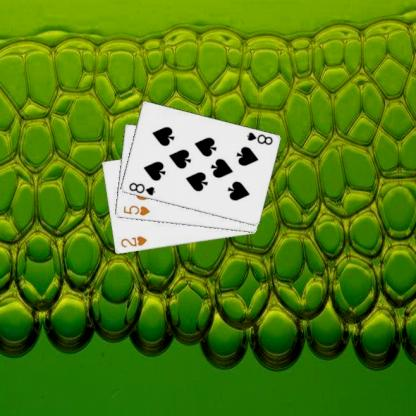2H: (118, 233, 148, 249)
5H: (120, 203, 151, 217)
8S: (243, 130, 274, 146), (126, 180, 156, 196)
